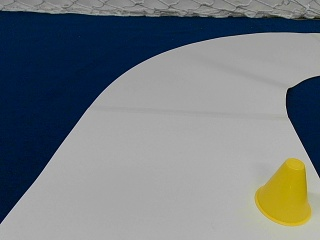cone: (254, 159, 310, 224)
